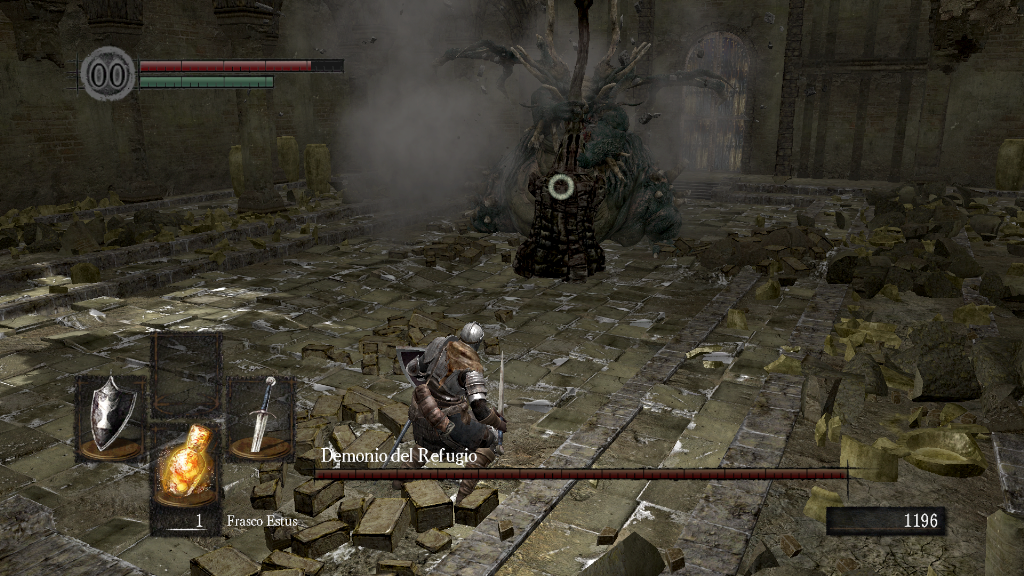asylumDemon: (435, 1, 735, 282)
bossHP: (314, 469, 847, 479)
health: (138, 58, 343, 71)
humanity: (80, 45, 136, 102)
player: (394, 321, 505, 502)
souls: (825, 506, 945, 536)
stamina: (138, 74, 274, 88)
